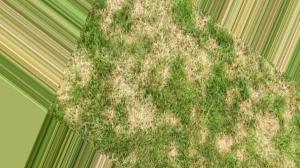patch: (241, 84, 284, 149), (109, 76, 154, 121), (159, 32, 204, 72), (119, 1, 166, 34), (210, 131, 241, 159)
